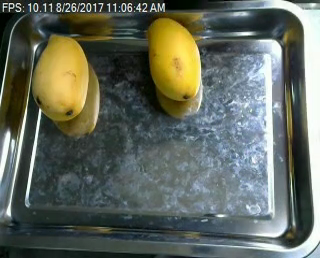Mango: (139, 16, 209, 110), (30, 32, 99, 123)
